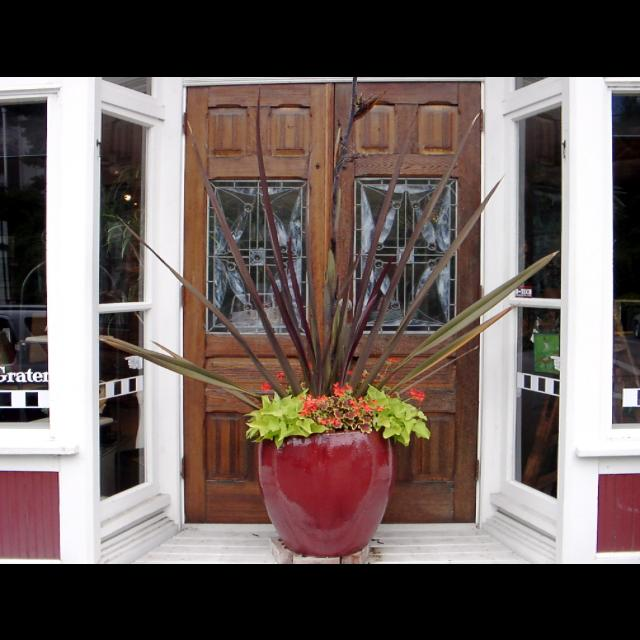Flower: (264, 361, 406, 422), (401, 385, 425, 403)
